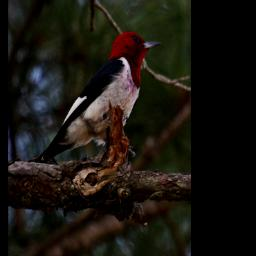Woodpecker: (27, 29, 165, 164)
